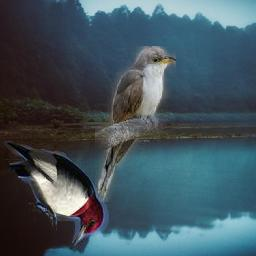Cuckoo: (96, 46, 177, 202)
Woodpecker: (0, 142, 109, 251)
